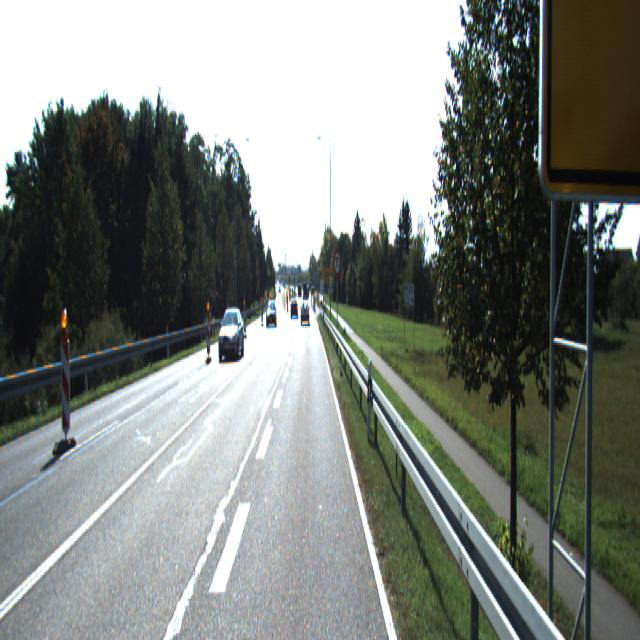Car: (217, 306, 245, 365), (301, 302, 310, 324)
